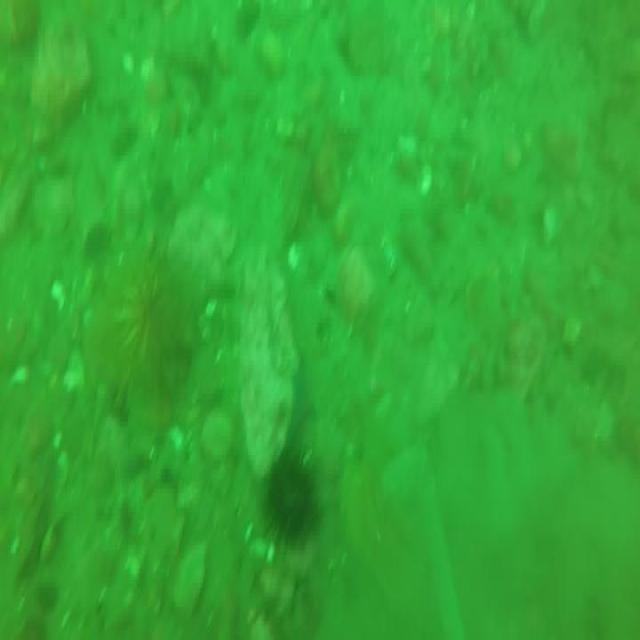echinus: (108, 249, 199, 396), (265, 447, 316, 558)
scallop: (418, 163, 434, 199)
